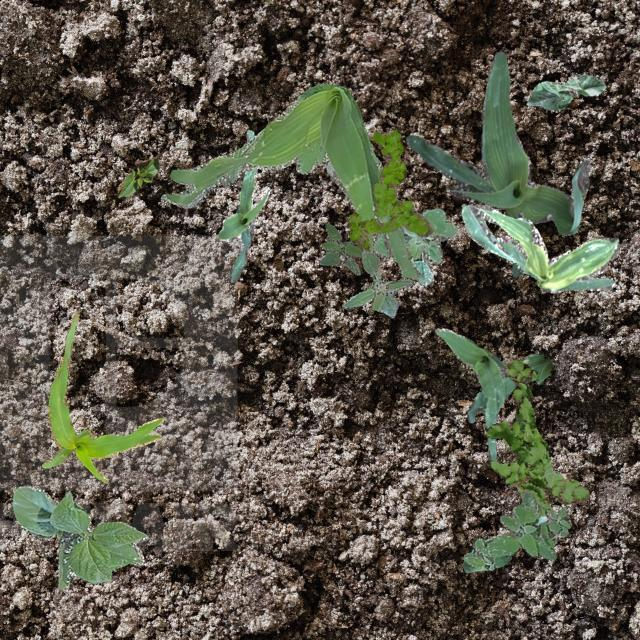crop: (404, 51, 588, 276), (41, 310, 162, 482), (434, 326, 550, 461), (10, 484, 146, 588), (461, 202, 618, 292), (216, 128, 268, 282), (461, 512, 546, 572), (526, 74, 604, 110), (114, 156, 158, 198)
weed: (160, 82, 422, 278), (483, 358, 588, 514), (347, 128, 432, 248), (462, 489, 570, 568), (372, 208, 456, 284), (344, 248, 411, 316), (318, 222, 362, 274)
